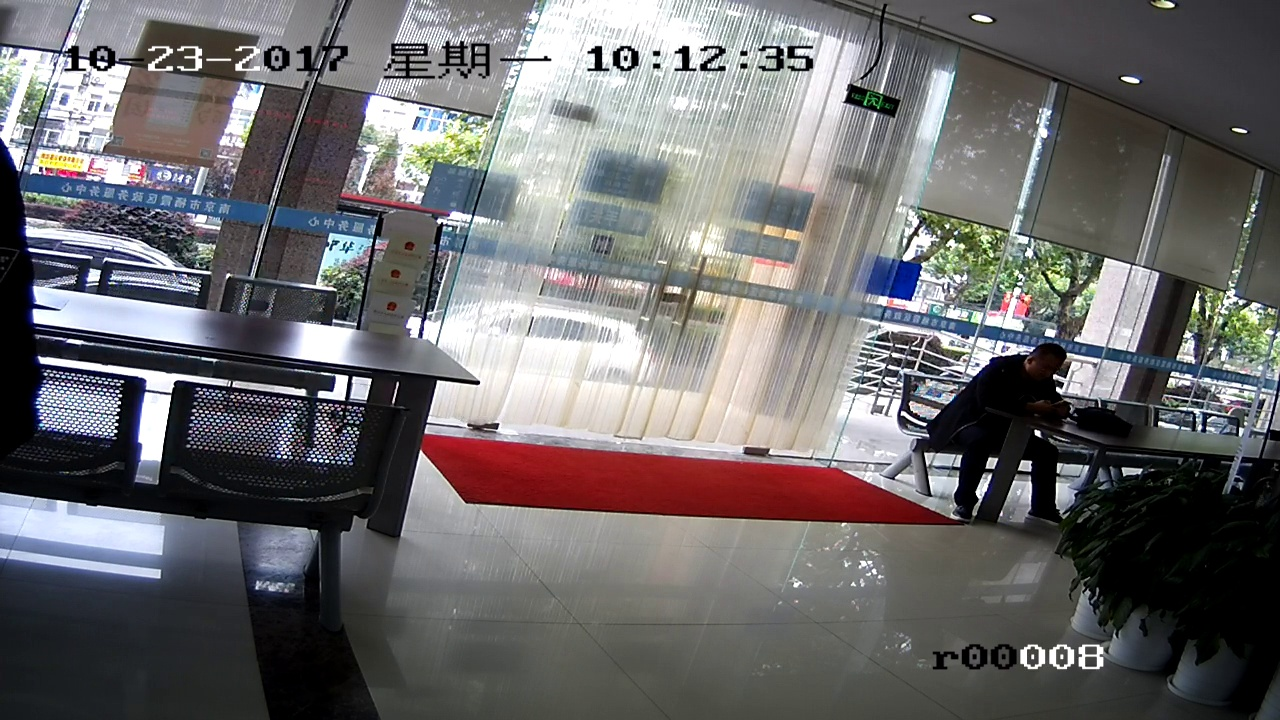chair: (160, 384, 393, 644)
person: (920, 333, 1074, 518)
pot: (1092, 471, 1177, 678), (1188, 489, 1250, 696)
